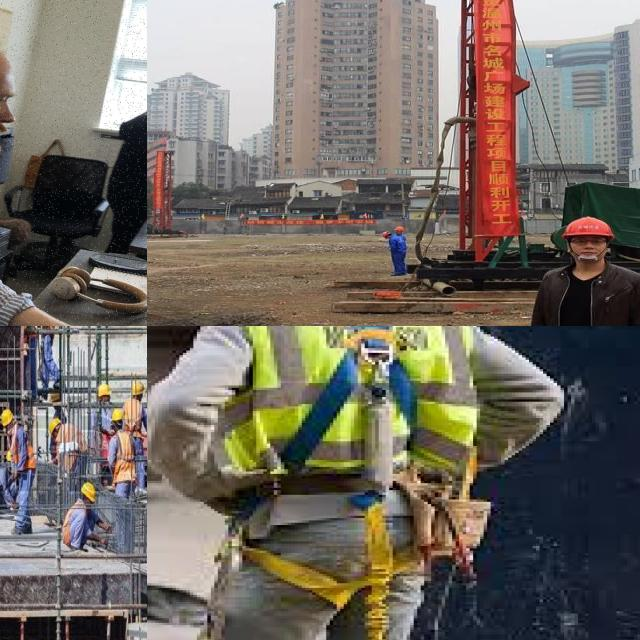Ear-protection: (0, 11, 42, 173)
Harness: (222, 326, 492, 609)
No_Ear-Protection: (560, 215, 614, 269)
head_helmet: (0, 407, 19, 426), (96, 379, 112, 398), (130, 378, 146, 396), (80, 482, 96, 499), (111, 406, 125, 425), (50, 418, 62, 434), (4, 452, 16, 462)
person: (0, 402, 41, 541), (68, 477, 107, 558), (108, 409, 138, 507), (46, 409, 90, 466), (33, 326, 65, 390), (128, 374, 147, 481), (16, 326, 35, 396), (0, 470, 14, 518)
vest: (113, 430, 138, 479), (12, 435, 36, 473), (56, 431, 83, 457), (128, 398, 147, 428), (65, 502, 79, 541)
